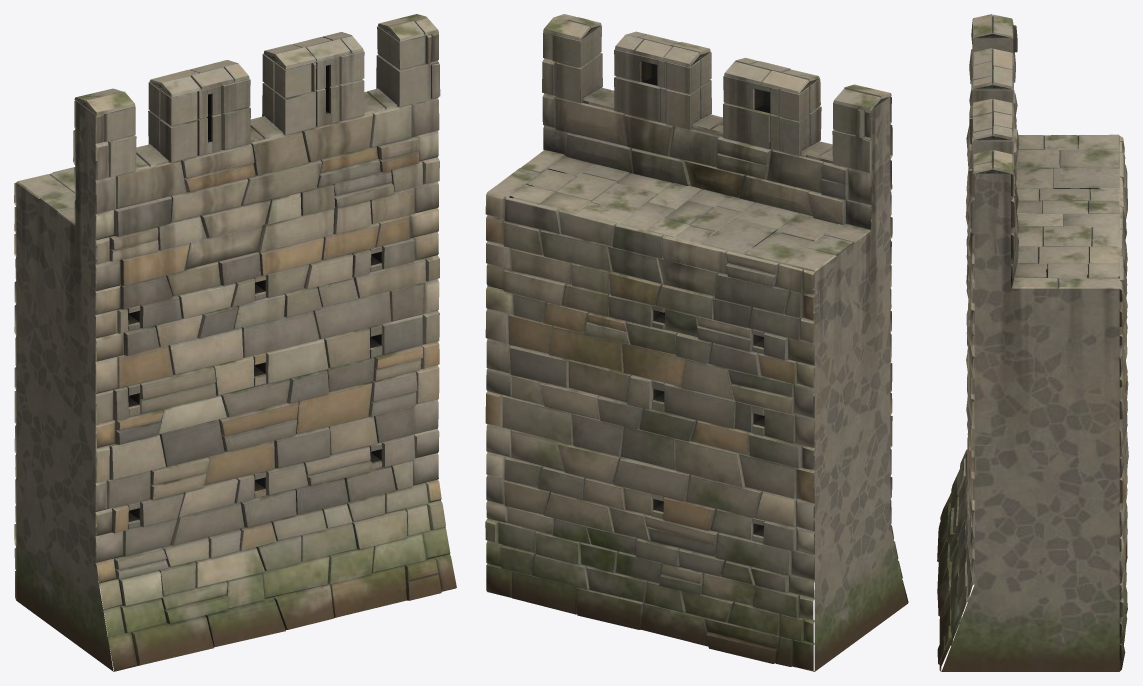
Rendered from wall_stone_straight_c.glb.
3 views of the same model, side by side, from view 1: azimuth 30°, elevation 25°; view 2: azimuth 150°, elevation 25°; view 3: azimuth 270°, elevation 25° (orthographic). The views are drawn at different scales.
Parts seen in each view (by area): view 1: wall_stone_straight_c_LOD0; view 2: wall_stone_straight_c_LOD0; view 3: wall_stone_straight_c_LOD0.
Boxes of the visible parts, x1,y1,x2,y2 form: wall_stone_straight_c_LOD0: [14, 14, 456, 671]; wall_stone_straight_c_LOD0: [485, 14, 908, 671]; wall_stone_straight_c_LOD0: [937, 14, 1128, 671].
Size of what is drawn, in the model's own units: 6 by 9.23 by 3.18.
1 material, 1 textured.
